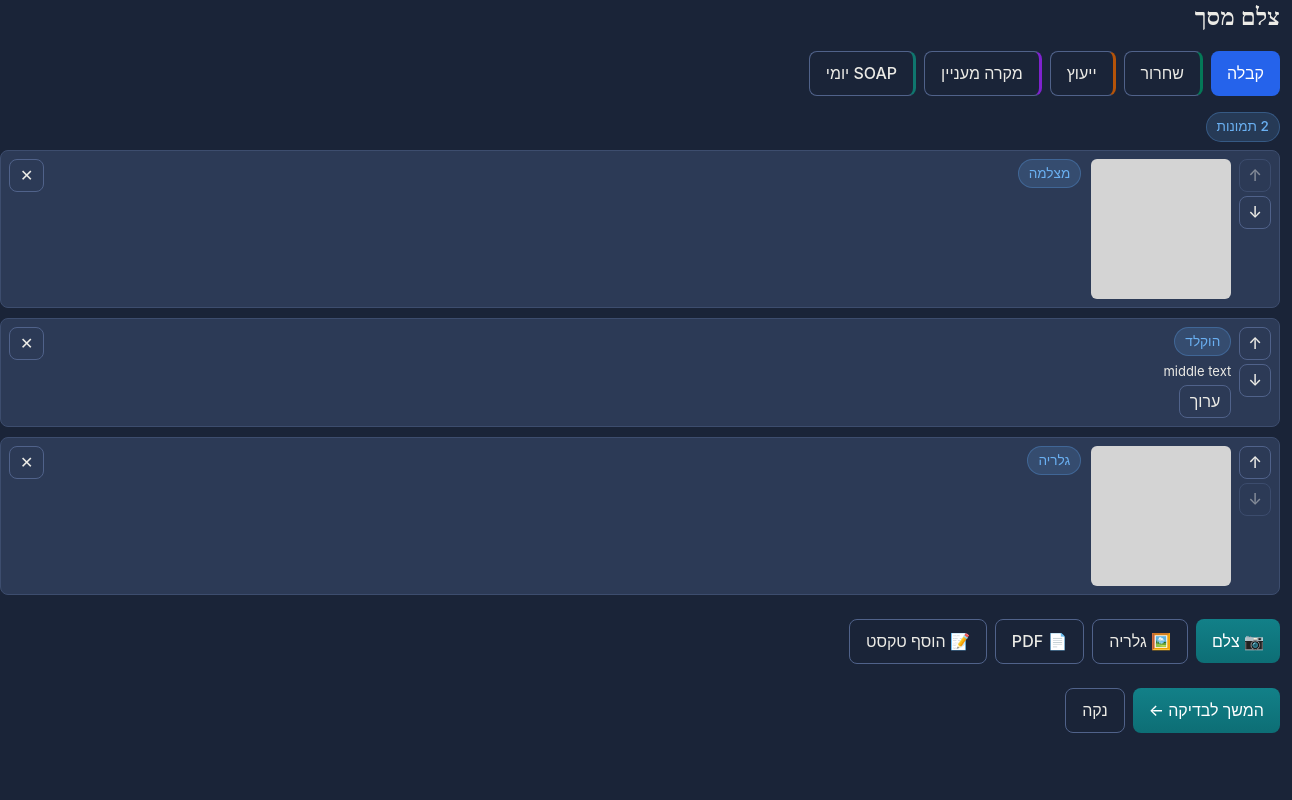
Test: Capture — remove preserves remaining order › removing the middle block leaves the surrounding blocks in their original positions
Click the button named "הסר בלוק". click: (27, 343)
box: [9,327,44,360]
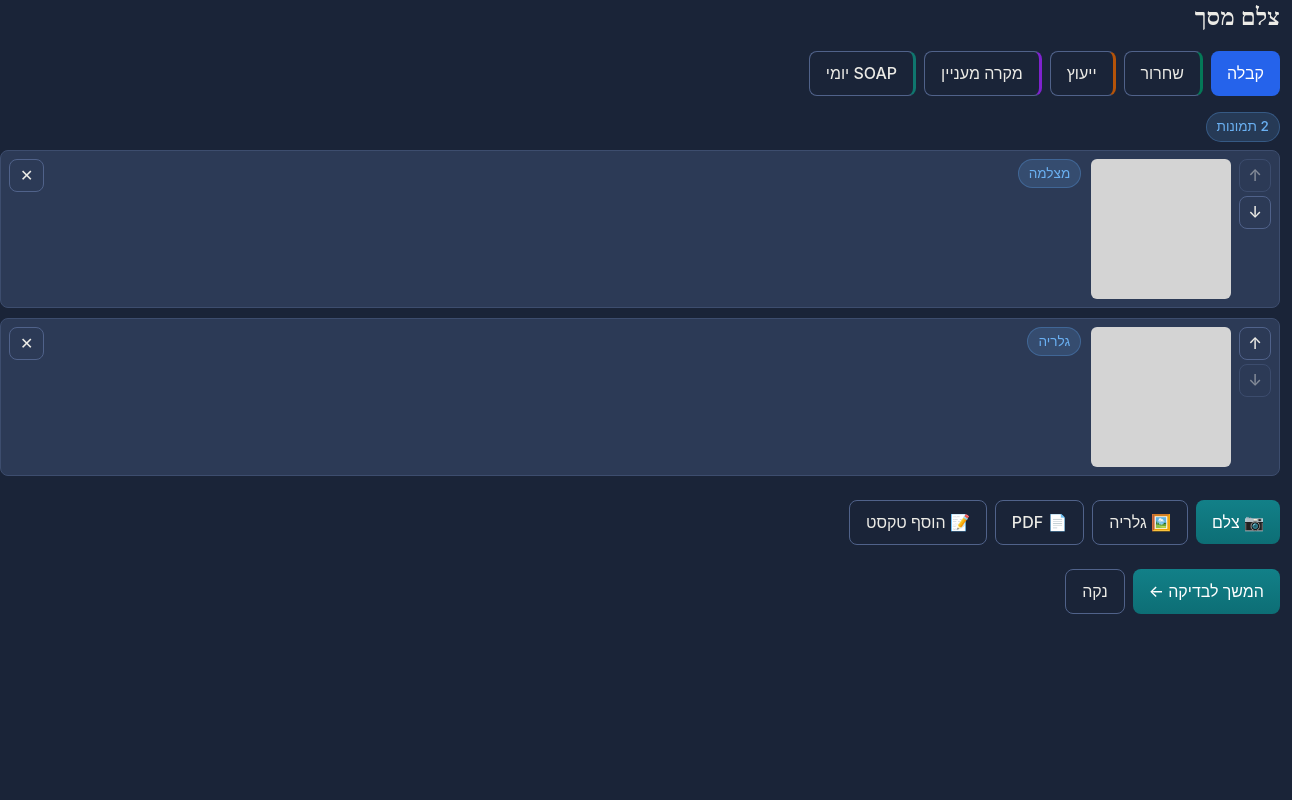
Result: the number of list items is 2 at [0,150,1280,308]; [0,318,1280,476]
